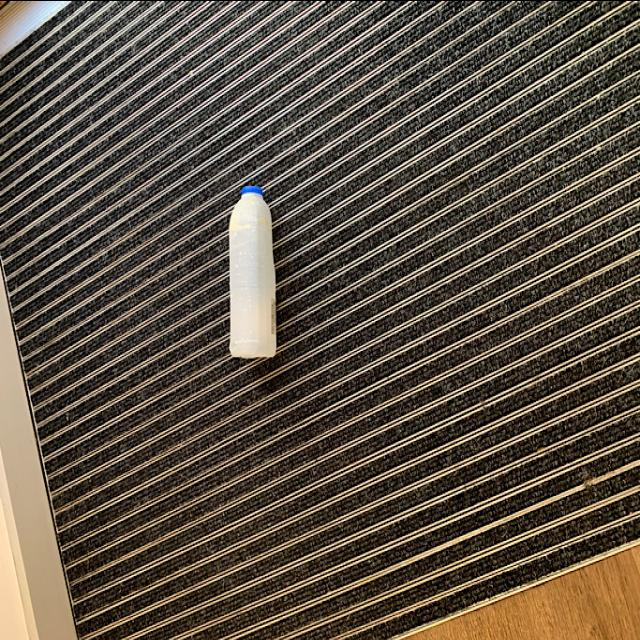litter: (221, 184, 280, 362)
